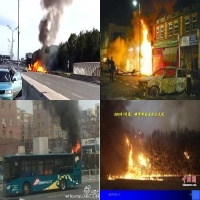fire: (108, 132, 162, 181), (136, 19, 151, 75), (29, 60, 47, 73), (162, 173, 200, 178), (71, 139, 80, 153), (183, 150, 189, 159)
